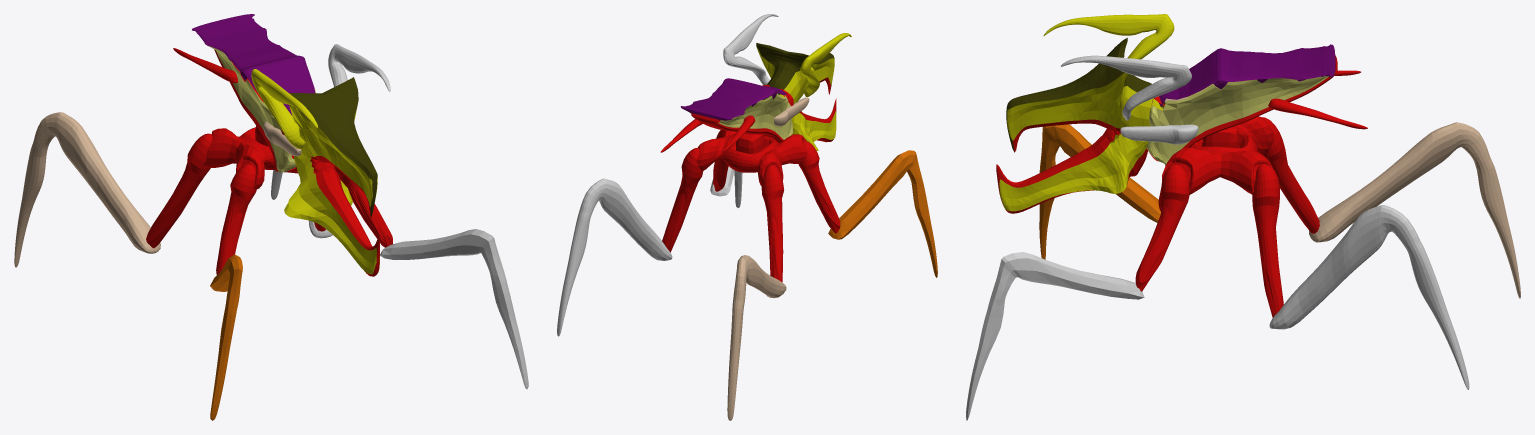
Rendered from aracnido_000026.obj.
3 views of the same model, side by side, from view 1: azimuth 30°, elevation 25°; view 2: azimuth 150°, elevation 25°; view 3: azimuth 270°, elevation 25° (orthographic). The views are drawn at different scales.
Visible parts, largest first — view 1: ARAK-BODY-; view 2: ARAK-BODY-; view 3: ARAK-BODY-.
Part boxes in pixels (x1=…): ARAK-BODY-: x1=14, y1=14, x2=528, y2=420; ARAK-BODY-: x1=557, y1=14, x2=937, y2=420; ARAK-BODY-: x1=966, y1=14, x2=1520, y2=420.
Bounding box in the file's own units: 2.64 × 2.75 × 4.24.
